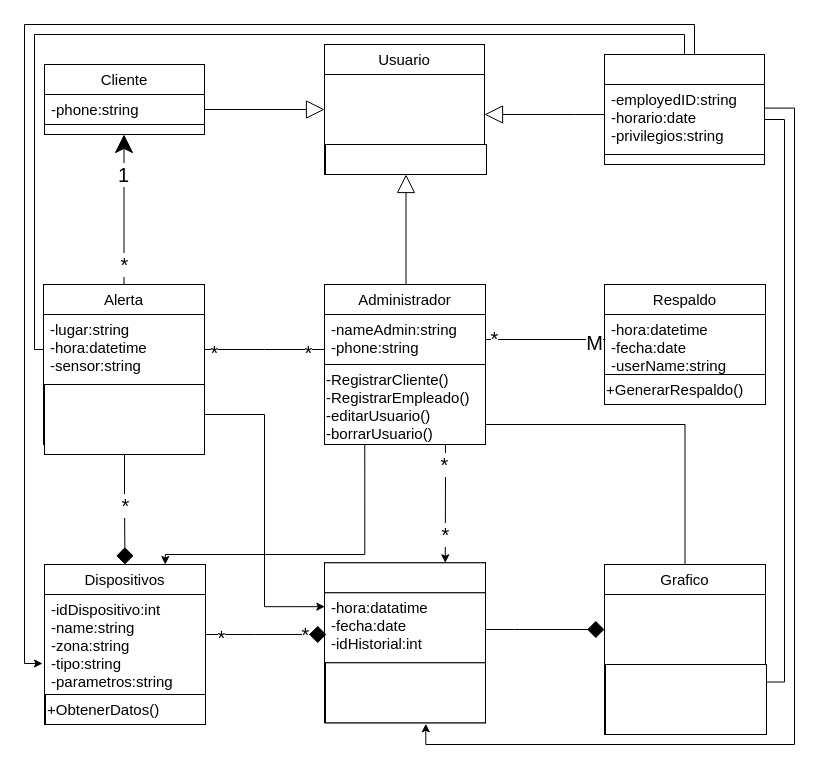
Some shapes in this 820 by 770 pixel diagram are drawn without their labels. The shapes that lost their labels are listed below. From the top down, each one's box as (x1, y1, x2, y2) in pixels, then its label:
(604, 54, 764, 84): Empleado
(324, 74, 484, 144): -userID:string -password:string -email:string
(324, 144, 486, 174): +IniciarSesion()
(44, 384, 204, 454): +VerAlerta() +LanzarAlerta()
(324, 562, 486, 593): Historial
(604, 594, 766, 664): -graficoID:string -fecha:date -datos:string
(324, 662, 486, 723): +VerHistorial() +GenerarReporte()
(604, 664, 766, 734): +GenerarGrafico() +VerGrafico() +BorrarGrafico()
